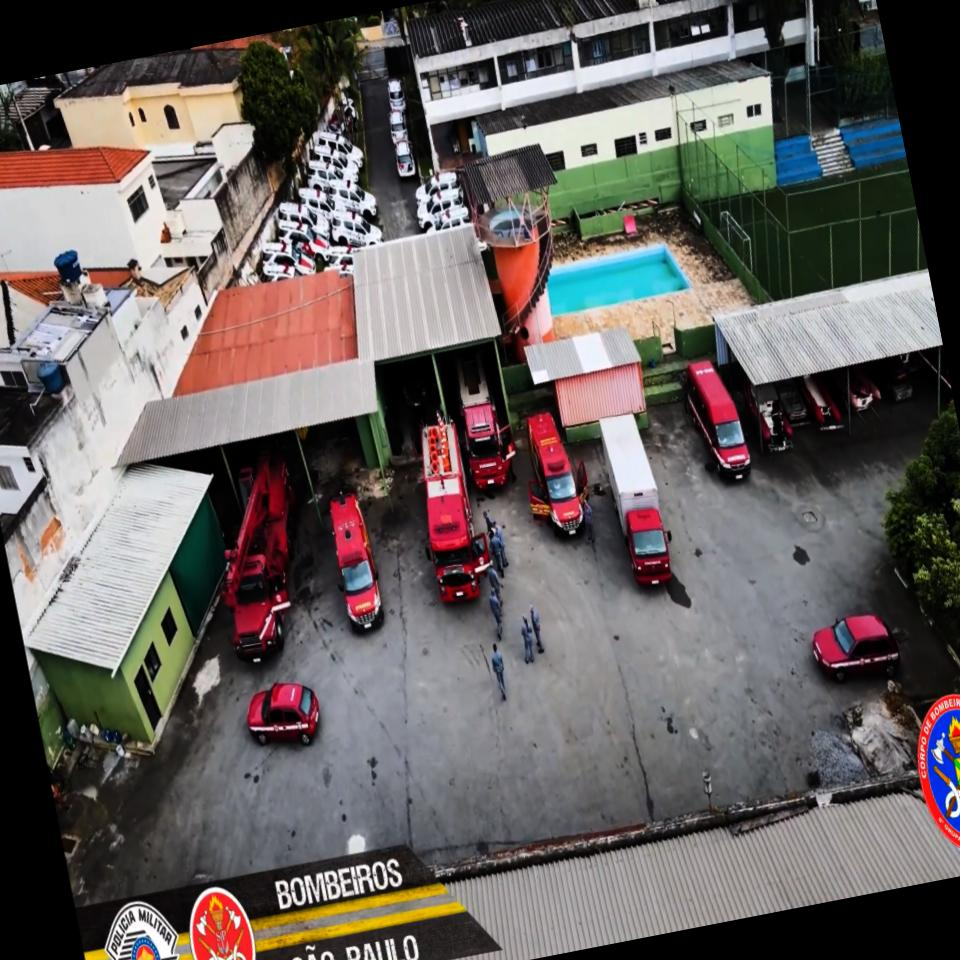viatura: (195, 448, 326, 670), (400, 415, 496, 608), (446, 352, 510, 491)
